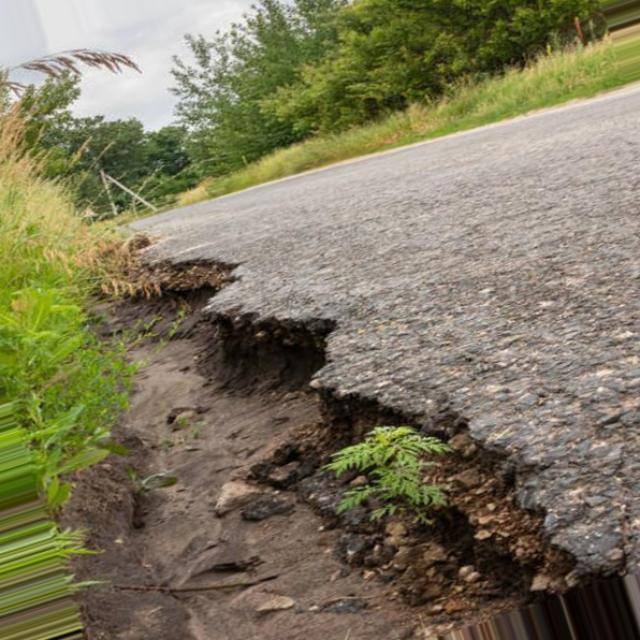Pinggir: (110, 248, 580, 605)
